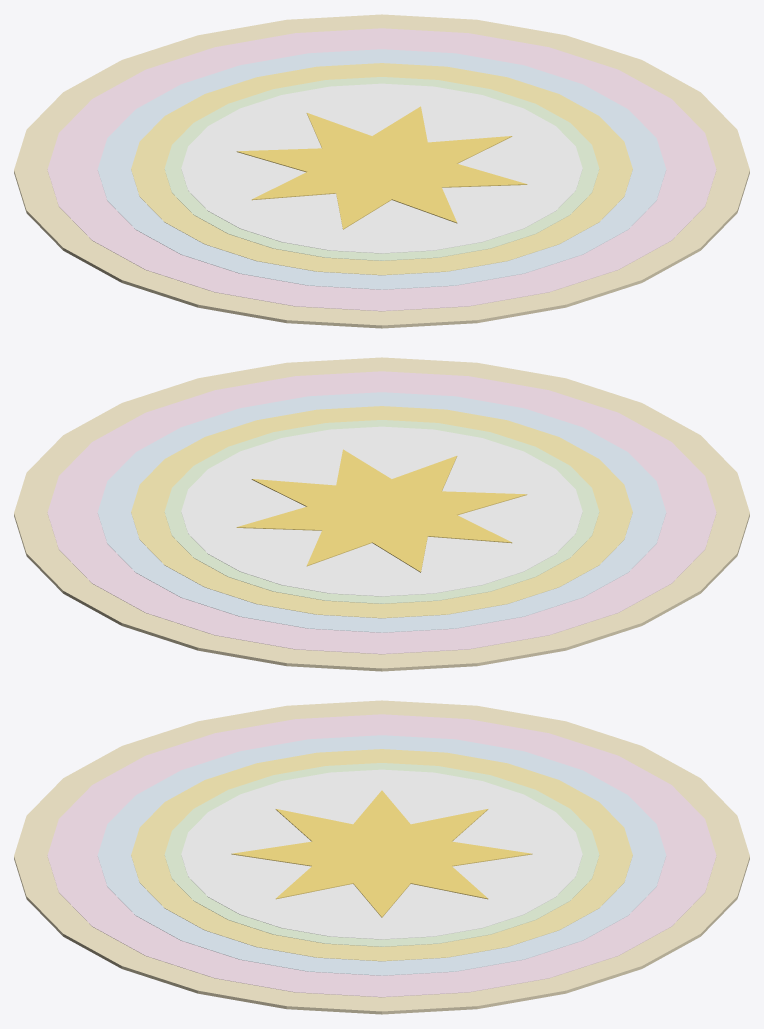
Rendered from CF_PlazaTile.fbx.
The picture shows the model from 3 angles, top to bottom: view 1: azimuth 30°, elevation 25°; view 2: azimuth 150°, elevation 25°; view 3: azimuth 270°, elevation 25°; orthographic projection.
Parts seen in each view (by area): view 1: CF_PlazaTile_RingB, CF_PlazaTile_RingF, CF_PlazaTile_RingA, CF_PlazaTile_RingC, CF_PlazaTile_RingD, CF_PlazaTile_Star, CF_PlazaTile_RingE; view 2: CF_PlazaTile_RingB, CF_PlazaTile_RingF, CF_PlazaTile_RingA, CF_PlazaTile_RingC, CF_PlazaTile_RingD, CF_PlazaTile_Star, CF_PlazaTile_RingE; view 3: CF_PlazaTile_RingB, CF_PlazaTile_RingF, CF_PlazaTile_RingA, CF_PlazaTile_RingC, CF_PlazaTile_RingD, CF_PlazaTile_Star, CF_PlazaTile_RingE.
Part boxes in pixels (x1=…): CF_PlazaTile_RingB: x1=47, y1=28, x2=716, y2=311; CF_PlazaTile_RingF: x1=181, y1=83, x2=582, y2=253; CF_PlazaTile_RingA: x1=14, y1=14, x2=749, y2=328; CF_PlazaTile_RingC: x1=97, y1=49, x2=666, y2=289; CF_PlazaTile_RingD: x1=131, y1=63, x2=632, y2=275; CF_PlazaTile_Star: x1=236, y1=106, x2=527, y2=229; CF_PlazaTile_RingE: x1=164, y1=77, x2=599, y2=260; CF_PlazaTile_RingB: x1=47, y1=371, x2=716, y2=654; CF_PlazaTile_RingF: x1=181, y1=426, x2=582, y2=596; CF_PlazaTile_RingA: x1=14, y1=357, x2=749, y2=671; CF_PlazaTile_RingC: x1=97, y1=392, x2=666, y2=632; CF_PlazaTile_RingD: x1=131, y1=406, x2=632, y2=618; CF_PlazaTile_Star: x1=236, y1=449, x2=527, y2=572; CF_PlazaTile_RingE: x1=164, y1=420, x2=599, y2=603; CF_PlazaTile_RingB: x1=47, y1=714, x2=716, y2=997; CF_PlazaTile_RingF: x1=181, y1=769, x2=582, y2=939; CF_PlazaTile_RingA: x1=14, y1=700, x2=749, y2=1014; CF_PlazaTile_RingC: x1=97, y1=735, x2=666, y2=975; CF_PlazaTile_RingD: x1=131, y1=749, x2=632, y2=961; CF_PlazaTile_Star: x1=231, y1=790, x2=532, y2=917; CF_PlazaTile_RingE: x1=164, y1=763, x2=599, y2=946.
Size of the model in its own units: 44 by 0.35 by 44.
